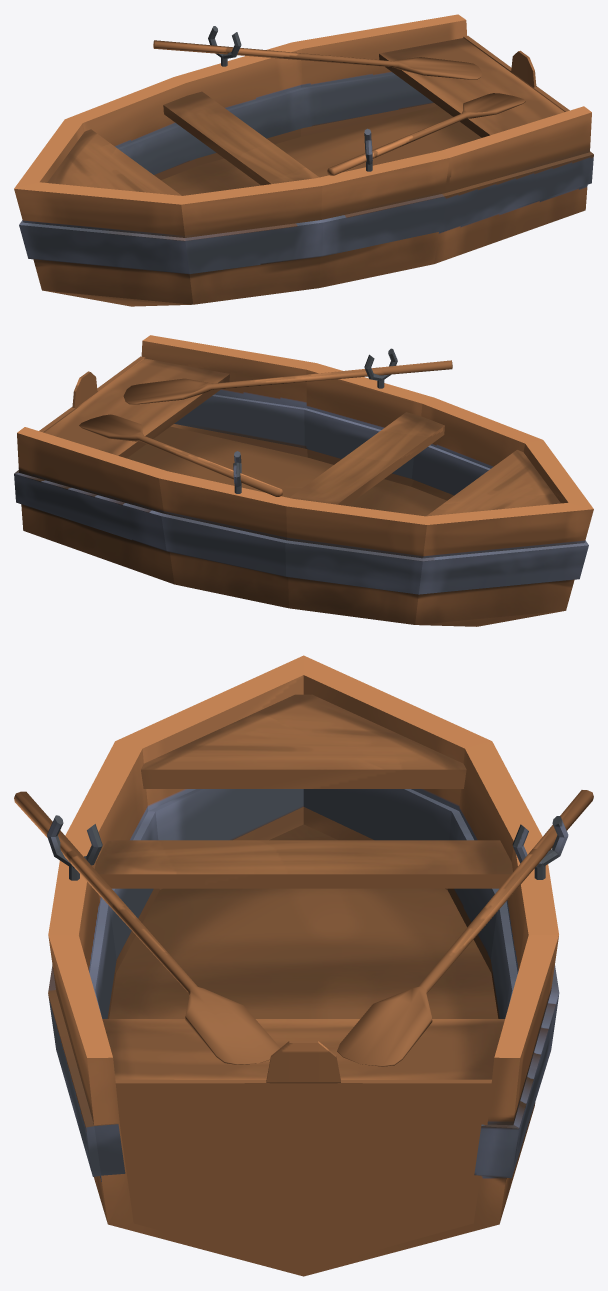
File: Barque.fbx
The picture shows the model from 3 angles, top to bottom: view 1: azimuth 30°, elevation 25°; view 2: azimuth 150°, elevation 25°; view 3: azimuth 270°, elevation 25°; orthographic projection. The views are drawn at different scales.
Parts seen in each view (by area): view 1: Torus.003; view 2: Torus.003; view 3: Torus.003.
Part boxes in pixels (x1,y1,x2,y2): Torus.003: [14, 14, 593, 306]; Torus.003: [14, 335, 593, 626]; Torus.003: [14, 655, 593, 1276].
Size of the model in its own units: 338 by 126 by 204.
